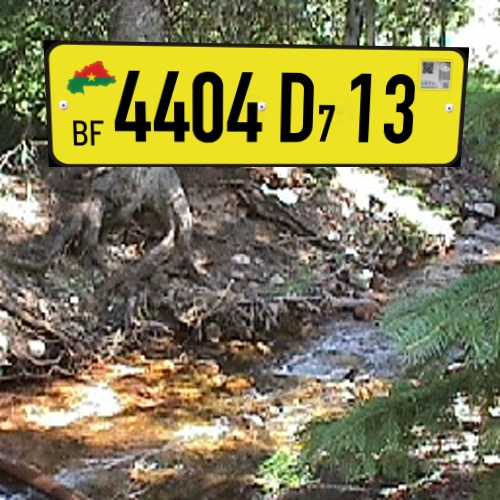plate: (41, 28, 475, 191)
